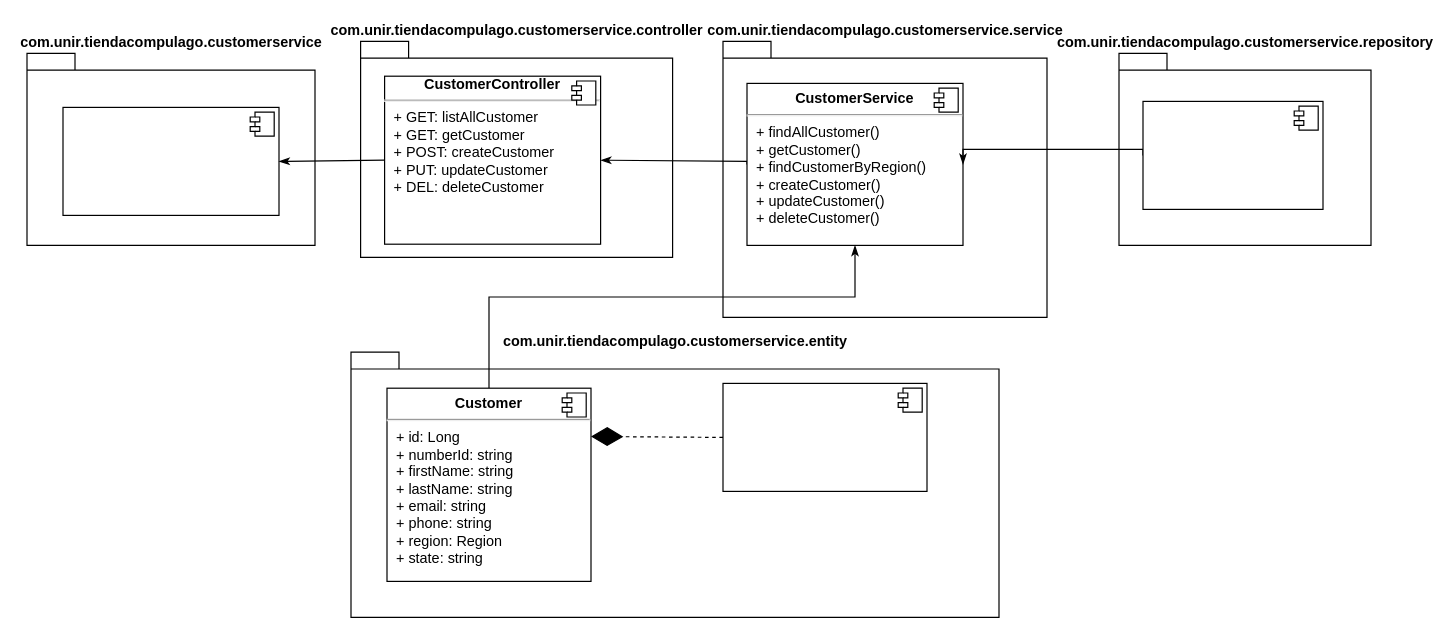
This 1453x638 diagram has some shape labels left out. The centre of each missing label's shape, as x and y in pixels:
"Customer ServiceApplication + main" goes at [170,160].
"CustomerRepository + saveCustomer + getCustomer + updateCustomer" goes at [1232,154].
"Region + id: Long + name: string" goes at [824,436].
